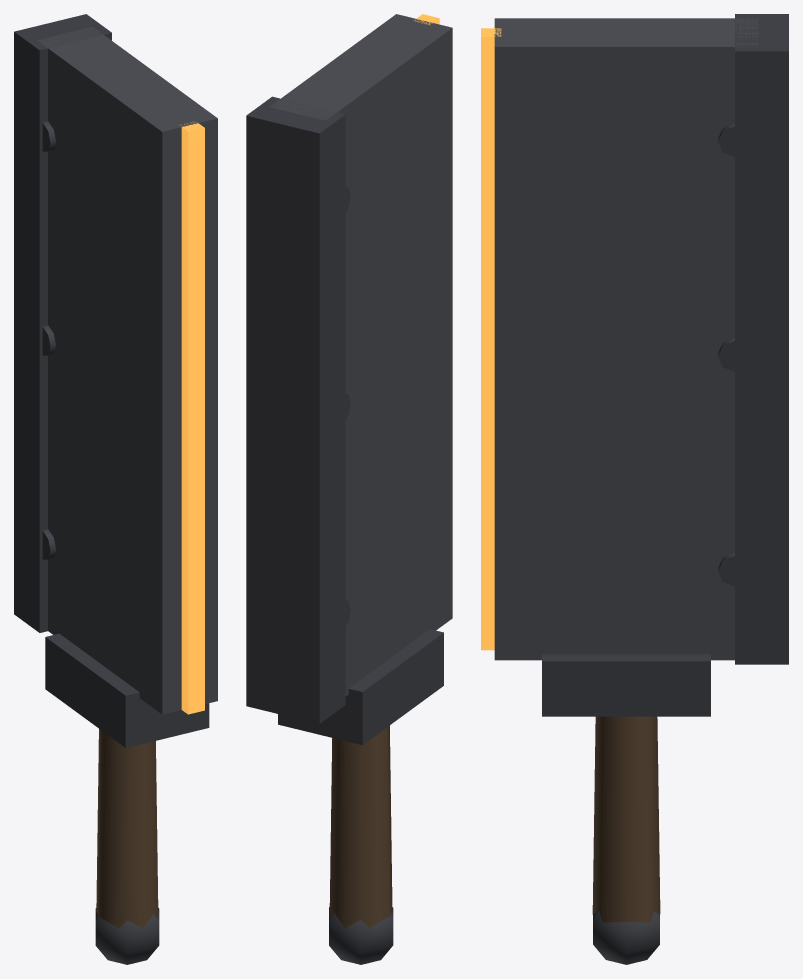
Rendered from iwao.glb.
The picture shows the model from 3 angles, left to right: view 1: azimuth 30°, elevation 25°; view 2: azimuth 150°, elevation 25°; view 3: azimuth 270°, elevation 25°; orthographic projection. The views are drawn at different scales.
Size of the model in its own units: 0.3 by 3.03 by 0.91.
